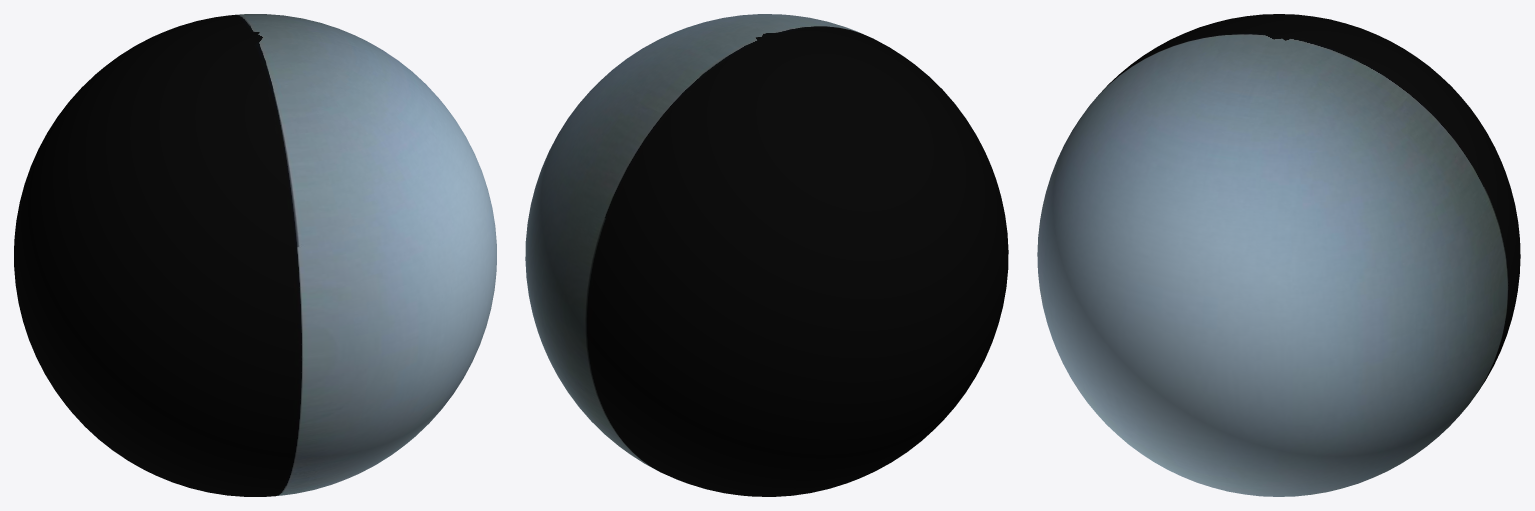
3 views of the same model, side by side, from view 1: azimuth 30°, elevation 25°; view 2: azimuth 150°, elevation 25°; view 3: azimuth 270°, elevation 25° (orthographic).
Visible parts, largest first — view 1: Tierra.001; view 2: Tierra.001; view 3: Tierra.001.
Boxes of the visible parts, bbox=[...] form: Tierra.001: bbox=[14, 14, 496, 496]; Tierra.001: bbox=[525, 14, 1008, 496]; Tierra.001: bbox=[1037, 14, 1520, 496].
Bounding box in the file's own units: 18 × 18 × 18.
Materials: 1 (1 with a texture image).
